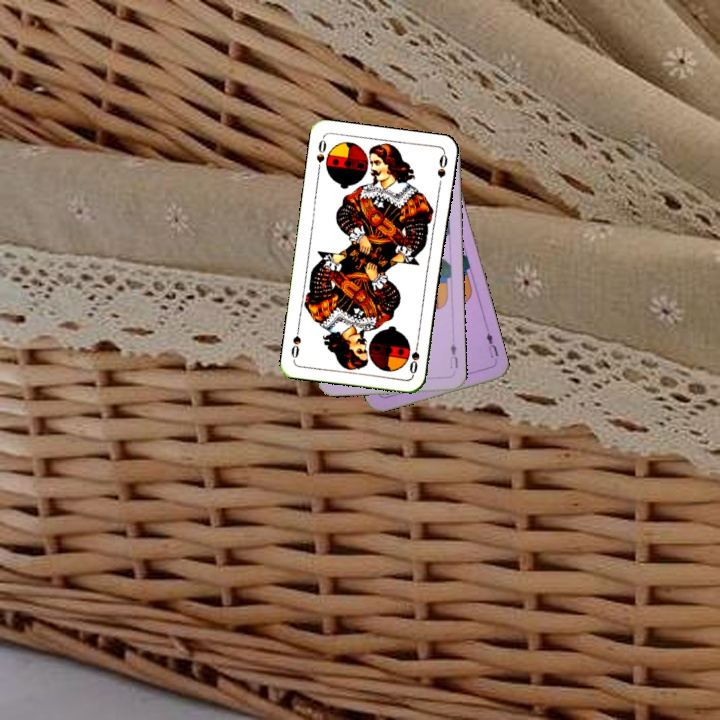EU: (482, 328, 501, 361), (446, 340, 460, 371)
SO: (405, 337, 422, 377), (313, 134, 329, 175)
